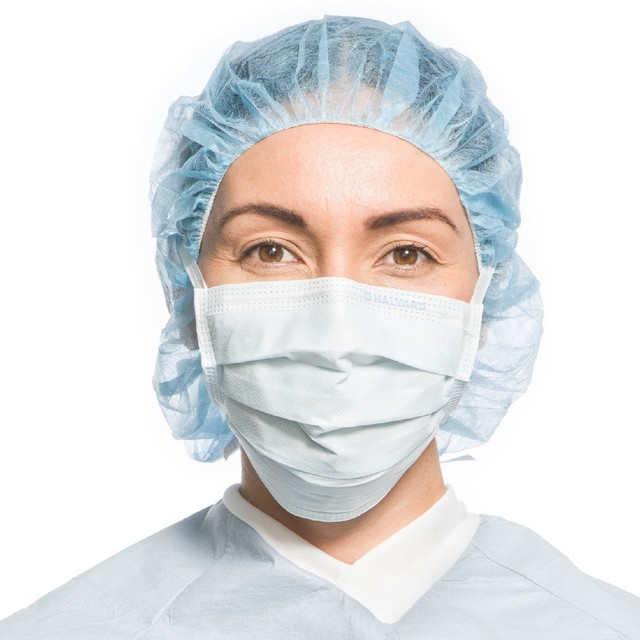mask: (201, 291, 480, 498)
